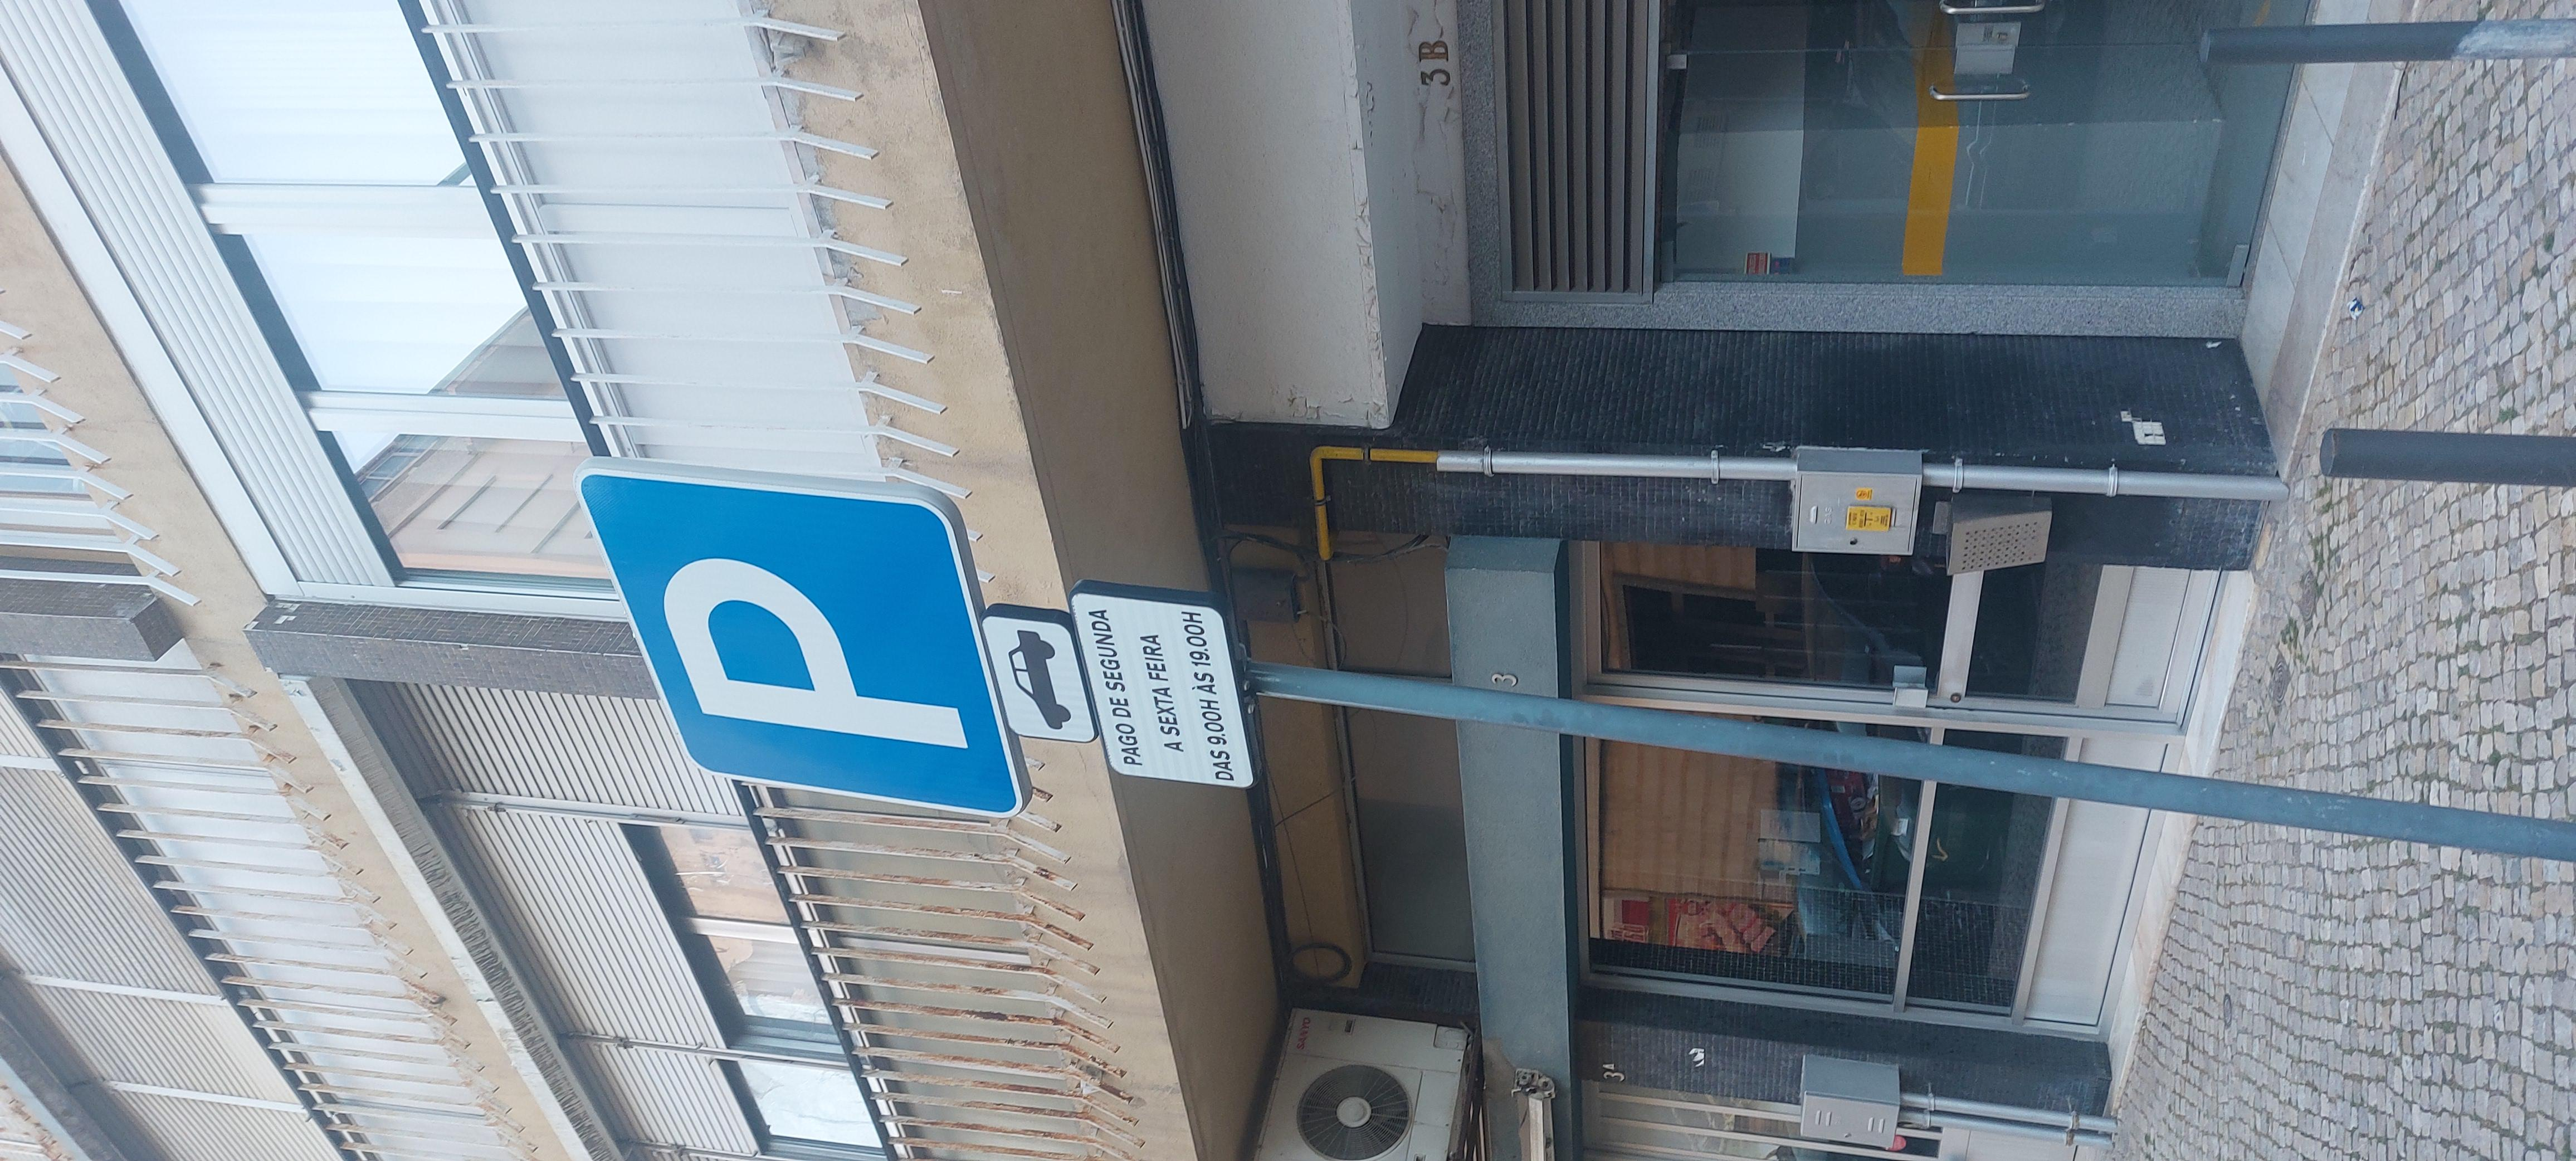Estacionamento autorizado: (769, 258, 1533, 471)
